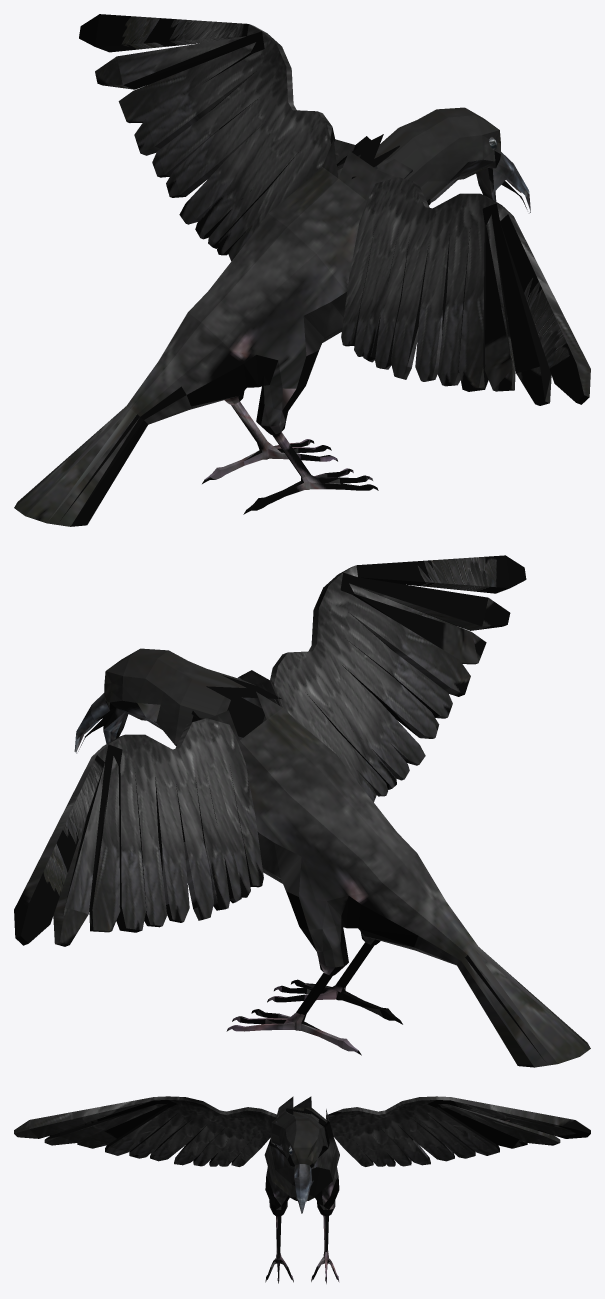
Rendered from CrowBent0_000008.obj.
The picture shows the model from 3 angles, top to bottom: view 1: azimuth 30°, elevation 25°; view 2: azimuth 150°, elevation 25°; view 3: azimuth 270°, elevation 25°; orthographic projection. The views are drawn at different scales.
Parts seen in each view (by area): view 1: Cylinder.009, Cylinder.003, Cylinder.002, Cylinder.001; view 2: Cylinder.009, Cylinder.002, Cylinder.003, Cylinder.001; view 3: Cylinder.002, Cylinder.003, Cylinder.009, Cylinder.001.
Boxes of the visible parts, x1,y1,x2,y2 form: Cylinder.009: (14, 136, 412, 526); Cylinder.003: (341, 177, 590, 405); Cylinder.002: (79, 14, 338, 261); Cylinder.001: (336, 107, 530, 213); Cylinder.009: (191, 670, 590, 1067); Cylinder.002: (14, 718, 263, 946); Cylinder.003: (268, 555, 526, 802); Cylinder.001: (74, 648, 282, 753); Cylinder.002: (326, 1096, 590, 1166); Cylinder.003: (14, 1096, 278, 1166); Cylinder.009: (264, 1096, 339, 1283); Cylinder.001: (269, 1108, 329, 1213).
Size of the model in its own units: 5.46 by 3.52 by 9.33.
4 materials, 4 textured.
